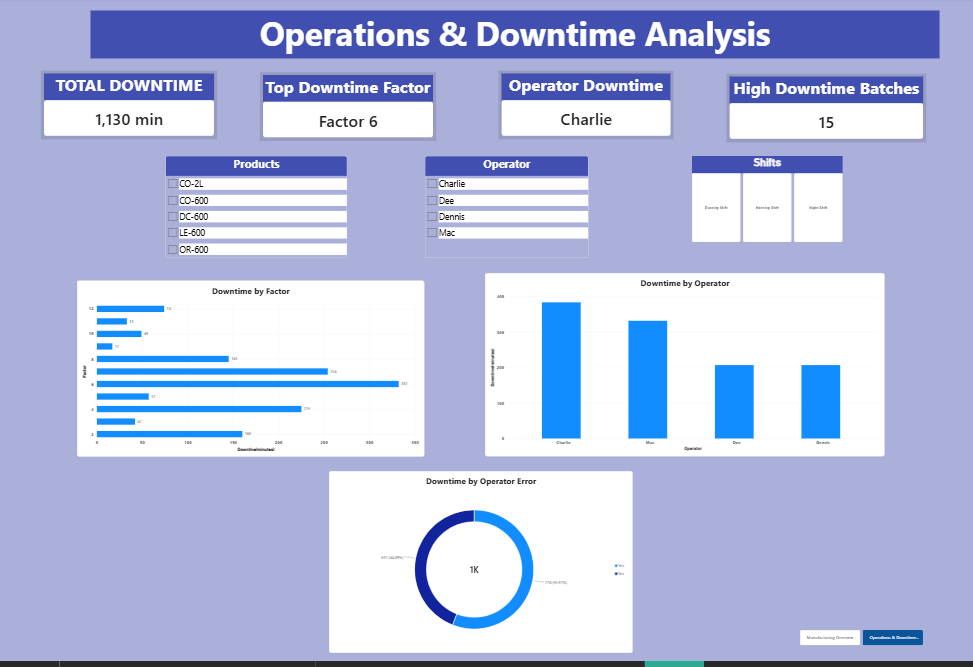

This screenshot's page, from the dashboard's own definition file:
{"tool":"powerbi","page":{"name":"Operations & Downtime Analysis","canvas":[3840,2160],"ordinal":1},"visuals":[{"type":"textbox","box":[580.7,43.9,2761.9,156.1],"z":0},{"type":"cardVisual","title":"TOTAL DOWNTIME","fields":{"Data":["Downtime_Factors.Downtime Card"]},"box":[430,250,553.3,203.3],"z":1},{"type":"cardVisual","title":"Top Downtime Factor","fields":{"Data":["Downtime_Factors.Top Downtime Factor"]},"box":[1140,253.3,553.3,203.3],"z":2},{"type":"cardVisual","title":"Operator Downtime","fields":{"Data":["Downtime_Factors.Top Downtime Operator"]},"box":[1920,250,550,203.3],"z":3},{"type":"cardVisual","title":"High Downtime Batches","fields":{"Data":["Downtime_Factors.High Downtime Batches"]},"box":[2660,256.7,630,203.3],"z":4},{"type":"slicer","title":"Products","fields":{"Values":["productivity clean.Product"]},"box":[826.7,516.7,590.5,331.6],"z":5},{"type":"slicer","title":"Operator","fields":{"Values":["productivity clean.Operator"]},"box":[1666.7,516.7,531.5,331.6],"z":6},{"type":"advancedSlicerVisual","fields":{"Values":["productivity clean.Shifts"]},"box":[2536.7,516.7,490,280],"z":7},{"type":"clusteredBarChart","title":"Downtime by Factor","fields":{"Category":["Downtime_Factors.Factor"],"Y":["Sum(Downtime_Factors.Downtime Minutes)"]},"box":[536.7,920,1130,573.3],"z":8},{"type":"clusteredColumnChart","title":"Downtime by Operator","fields":{"Category":["productivity clean.Operator"],"Y":["Sum(productivity clean.Total Downtime (Minutes))"]},"box":[1863.3,896.7,1300,596.7],"z":9},{"type":"donutChart","title":"Downtime by Operator Error","fields":{"Category":["Factors clean.Operator Error"],"Y":["Sum(Downtime_Factors.Downtime Minutes)"]},"box":[1358,1542,988,592],"z":10},{"type":"pageNavigator","box":[2890,2058,400,50],"z":11}]}

Visuals, with their boxes on the page's 3840x2160 design canvas (x1, y1, x2, y2). These are canvas units, not pixel positions in the 973x667 screenshot, which may show the page scaled, cropped or inside an application window:
textbox: pyautogui.locateOnScreen(581, 44, 3343, 200)
"TOTAL DOWNTIME" cardVisual: pyautogui.locateOnScreen(430, 250, 983, 453)
"Top Downtime Factor" cardVisual: pyautogui.locateOnScreen(1140, 253, 1693, 457)
"Operator Downtime" cardVisual: pyautogui.locateOnScreen(1920, 250, 2470, 453)
"High Downtime Batches" cardVisual: pyautogui.locateOnScreen(2660, 257, 3290, 460)
"Products" slicer: pyautogui.locateOnScreen(827, 517, 1417, 848)
"Operator" slicer: pyautogui.locateOnScreen(1667, 517, 2198, 848)
advancedSlicerVisual - productivity clean.Shifts: pyautogui.locateOnScreen(2537, 517, 3027, 797)
"Downtime by Factor" clusteredBarChart: pyautogui.locateOnScreen(537, 920, 1667, 1493)
"Downtime by Operator" clusteredColumnChart: pyautogui.locateOnScreen(1863, 897, 3163, 1493)
"Downtime by Operator Error" donutChart: pyautogui.locateOnScreen(1358, 1542, 2346, 2134)
pageNavigator: pyautogui.locateOnScreen(2890, 2058, 3290, 2108)
